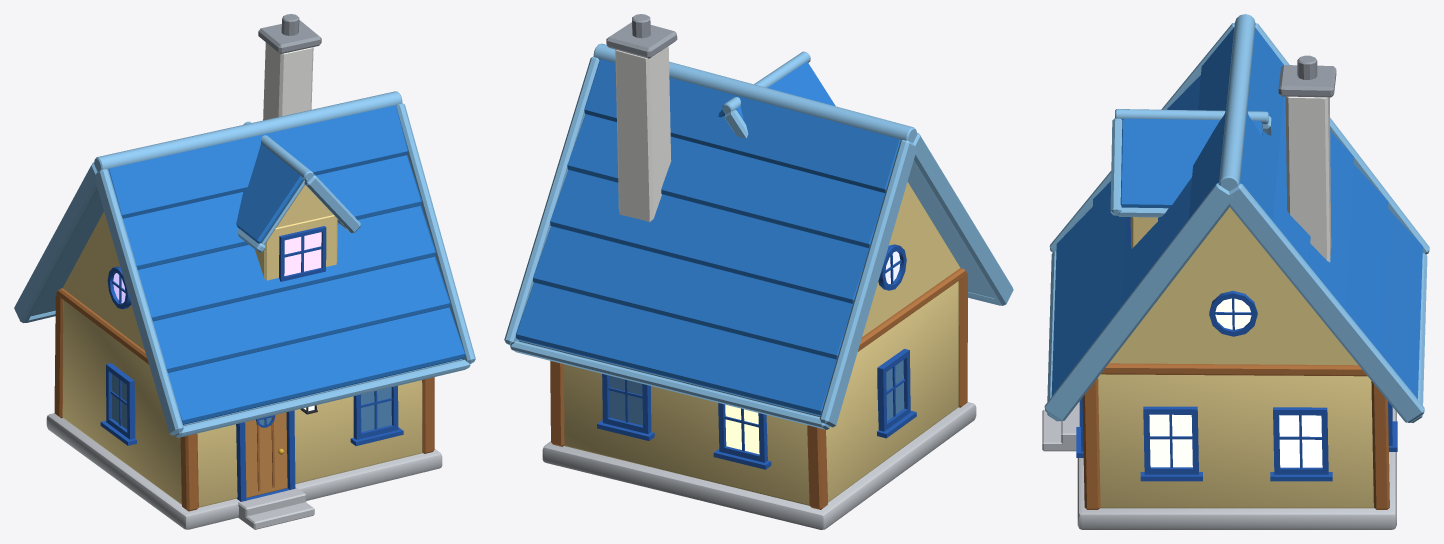
File: casinha_chamine_azul.glb
3 views of the same model, side by side, from view 1: azimuth 30°, elevation 25°; view 2: azimuth 150°, elevation 25°; view 3: azimuth 270°, elevation 25° (orthographic). The views are drawn at different scales.
Visible parts, largest first — view 1: casinha_chamine_azul; view 2: casinha_chamine_azul; view 3: casinha_chamine_azul.
Boxes of the visible parts, x1=… form: casinha_chamine_azul: x1=14, y1=14, x2=475, y2=529; casinha_chamine_azul: x1=504, y1=14, x2=1013, y2=529; casinha_chamine_azul: x1=1042, y1=14, x2=1429, y2=529.
Size of the model in its own units: 7.98 by 9.82 by 7.77.
7 materials, 1 textured.
